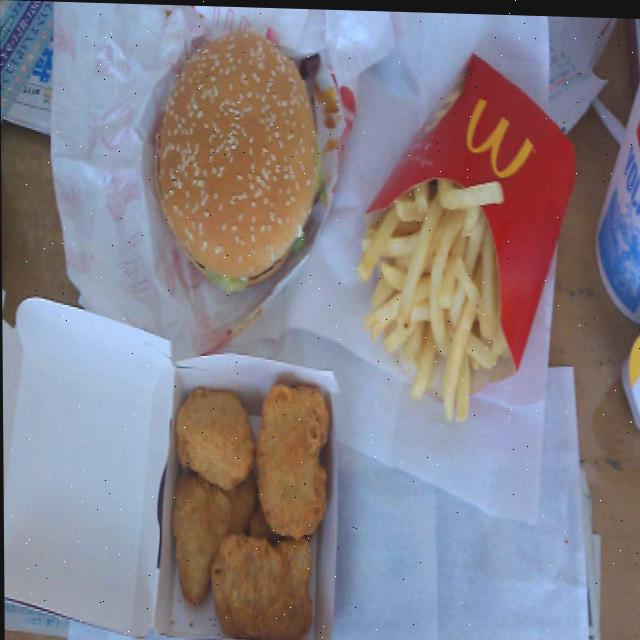汉堡快餐: (128, 3, 342, 306)
炸货点心: (356, 42, 574, 401)
